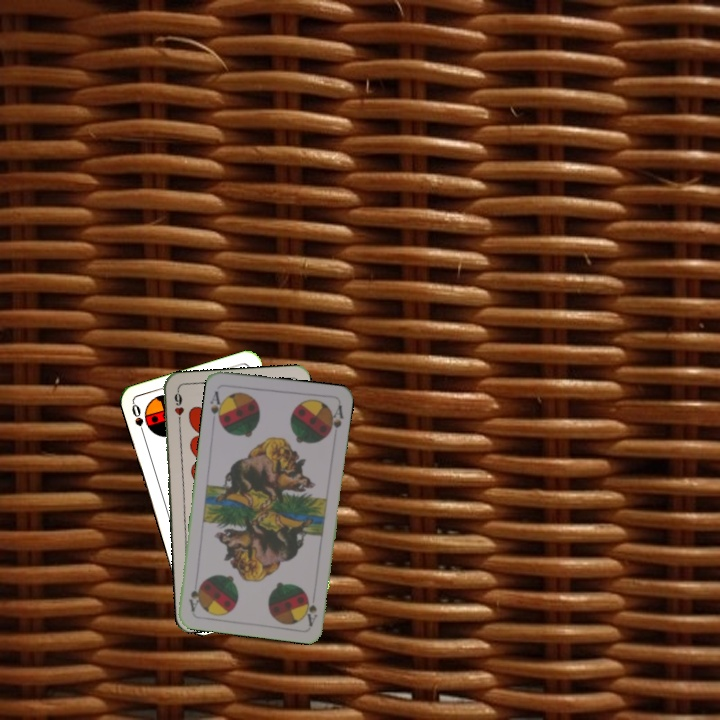H9: (170, 387, 186, 428)
SA: (206, 387, 227, 427), (302, 587, 320, 628)
SO: (128, 400, 147, 440)
